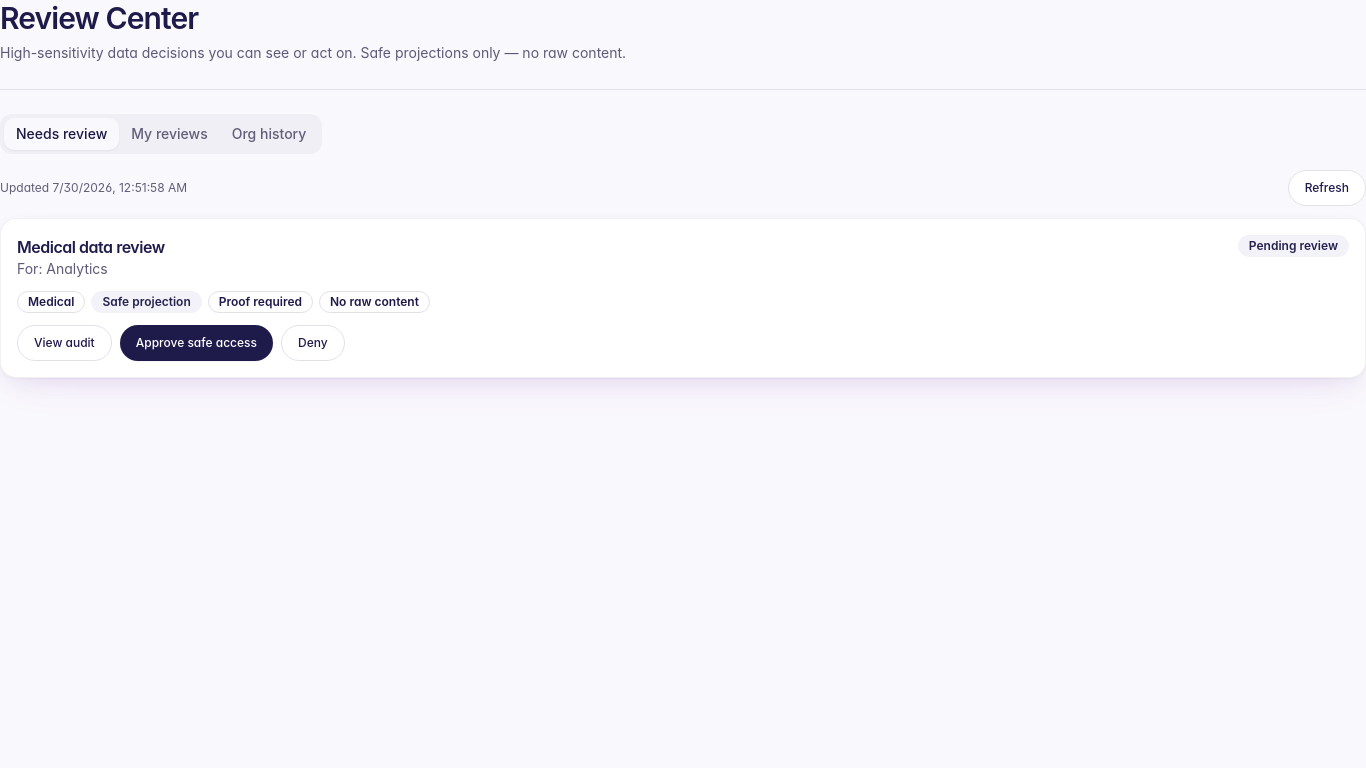
Review Center — audit drawer + no-leak › the audit drawer renders safe lifecycle + eligibility events
The width and height of the screenshot is (1366, 768).
Step 1. Click the button with test id "review-view-audit" → (64, 343), box [17,325,112,361]
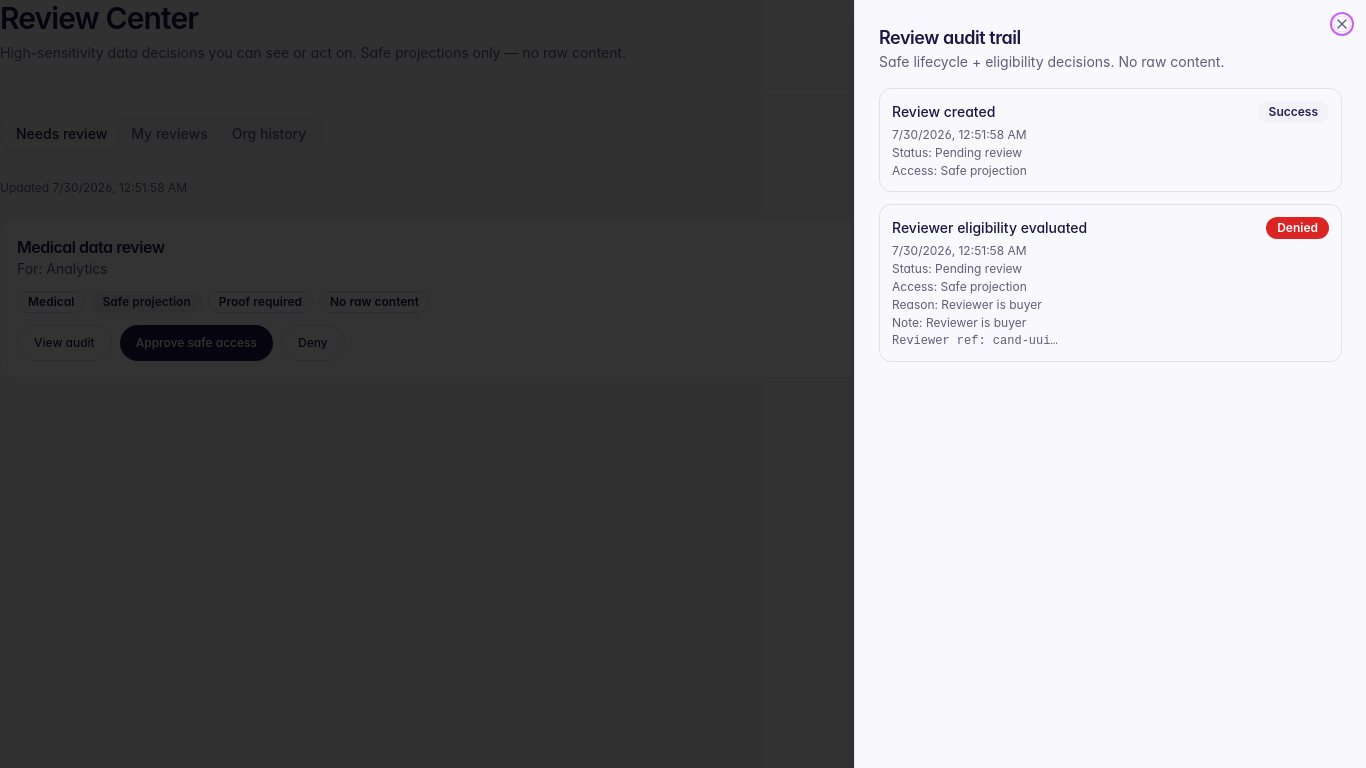
Check: the number of list items with test id "review-audit-event" is 2, box [879,88,1342,192]; [879,204,1342,362]
Check: the list with test id "review-audit-list" shows "Reviewer eligibility evaluated", box [892,219,1087,236]
